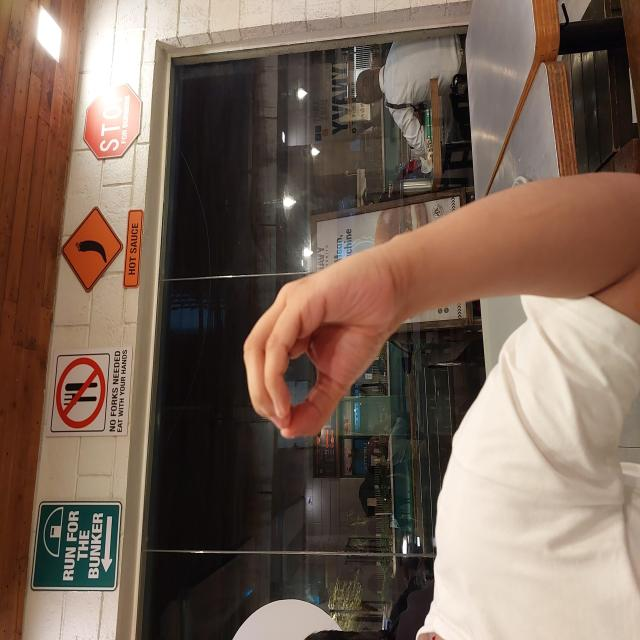O: (201, 242, 388, 396)
